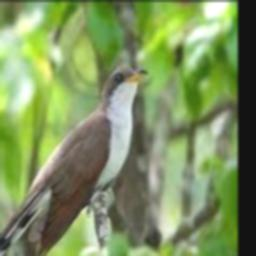Cuckoo: (0, 66, 148, 256)
